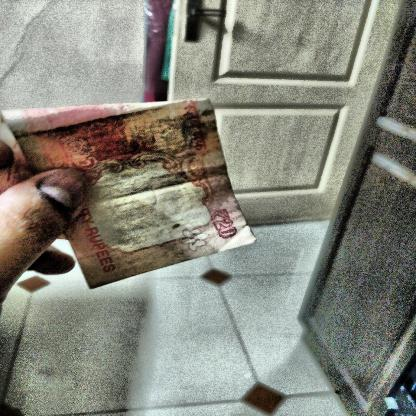Rs20: (204, 205, 243, 242)
